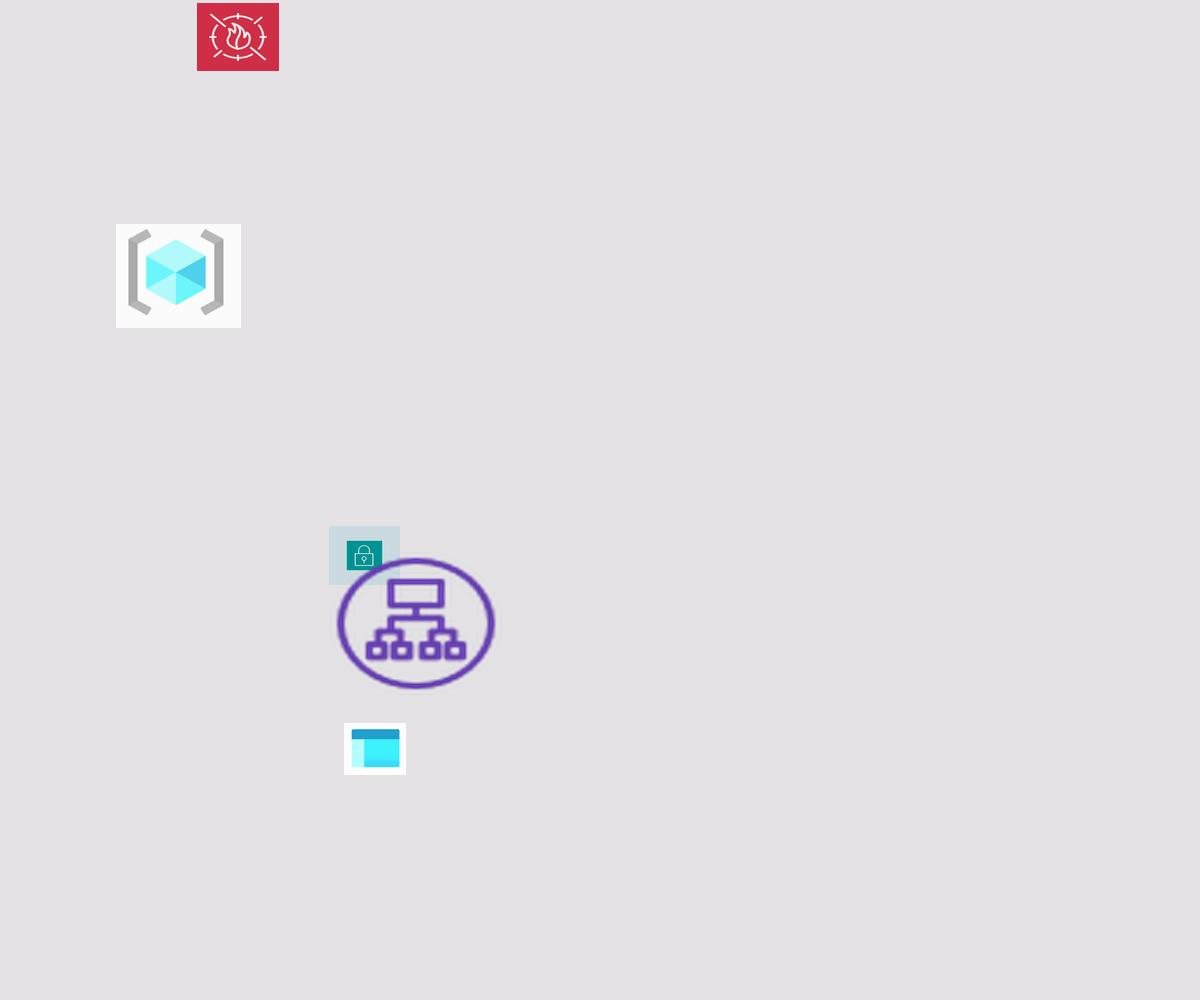AWS-Private-subnet: (329, 526, 400, 585)
AWS-Res_Elastic-Load-Balancing_Application-Load-Balancer: (330, 552, 502, 695)
AWS-WAF: (197, 3, 279, 71)
Azure_management-portal: (344, 723, 406, 775)
Azure_resource_group: (116, 224, 241, 328)
